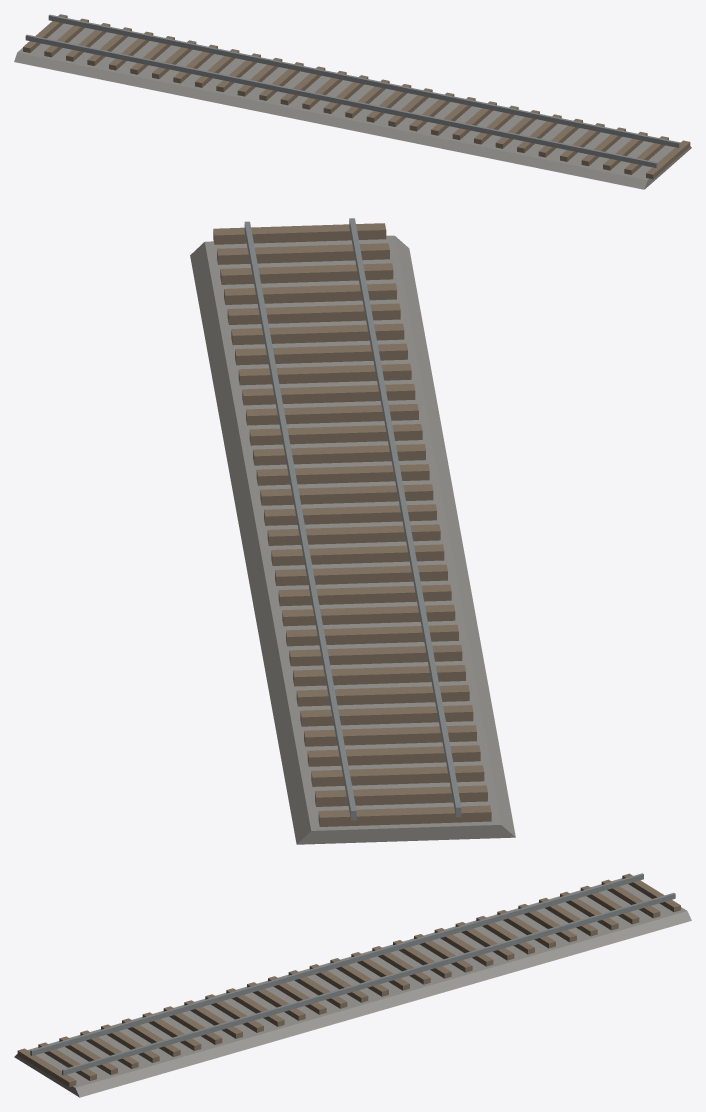
File: rail_01196.glb
3 views of the same model, one above another, from view 1: azimuth 30°, elevation 25°; view 2: azimuth 150°, elevation 25°; view 3: azimuth 270°, elevation 25° (orthographic). The views are drawn at different scales.
Visible parts, largest first — view 1: Ballast, Sleepers, Rails; view 2: Sleepers, Ballast, Rails; view 3: Ballast, Sleepers, Rails.
Boxes of the visible parts, box(x1,y1,x2,y2) form: Ballast: box(14, 23, 691, 189); Sleepers: box(23, 14, 690, 179); Rails: box(25, 14, 680, 167); Sleepers: box(213, 223, 491, 826); Ballast: box(190, 235, 515, 844); Rails: box(244, 218, 461, 820); Ballast: box(14, 878, 691, 1097); Sleepers: box(17, 873, 680, 1087); Rails: box(30, 873, 675, 1075).
Bounding box in the file's own units: 13.25 × 0.48 × 17.44.
